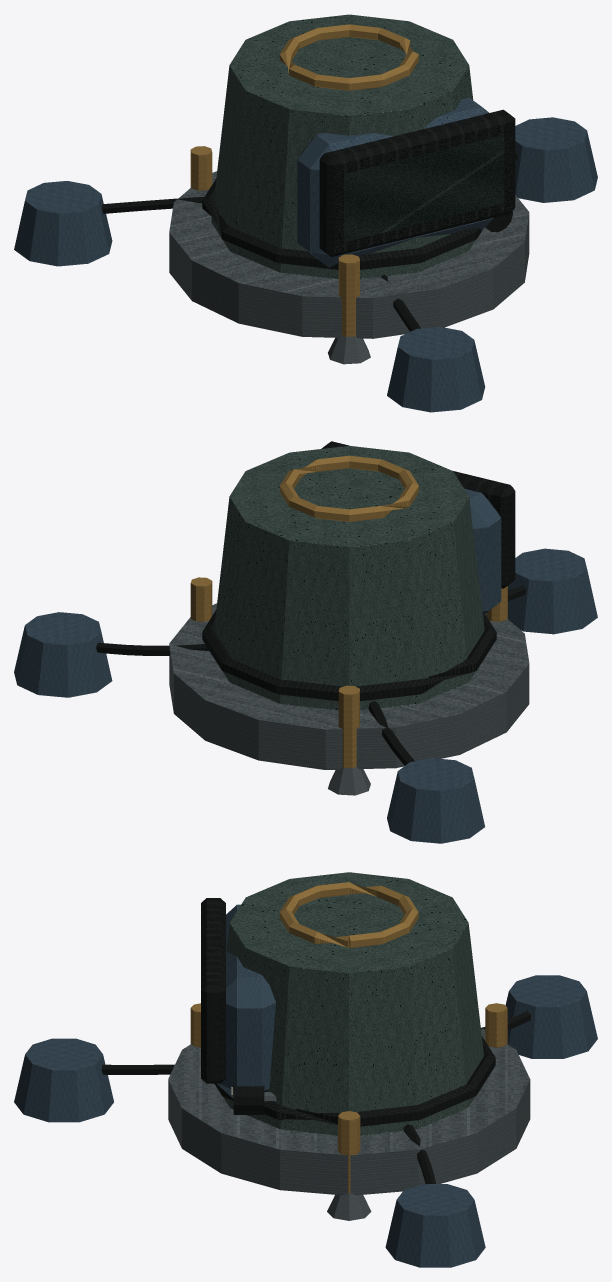
Rendered from blender_seismic_recorder_3.glb.
3 views of the same model, one above another, from view 1: azimuth 30°, elevation 25°; view 2: azimuth 150°, elevation 25°; view 3: azimuth 270°, elevation 25° (orthographic).
Parts seen in each view (by area): view 1: blender_seismic_recorder_3; view 2: blender_seismic_recorder_3; view 3: blender_seismic_recorder_3.
Boxes of the visible parts, x1=… form: blender_seismic_recorder_3: x1=14, y1=14, x2=597, y2=412; blender_seismic_recorder_3: x1=14, y1=441, x2=597, y2=843; blender_seismic_recorder_3: x1=14, y1=872, x2=597, y2=1267.
Size of the model in its own units: 0.2116 by 0.0925 by 0.2097.
8 materials, 8 textured.
